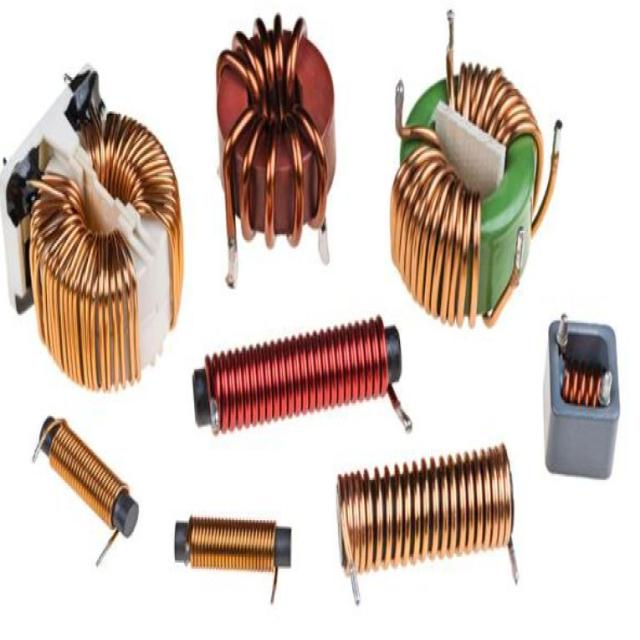electronic: (376, 9, 574, 376), (0, 68, 197, 409), (314, 423, 544, 640), (210, 28, 359, 268), (28, 382, 172, 604), (172, 320, 428, 438), (524, 286, 640, 541), (170, 468, 338, 640)
